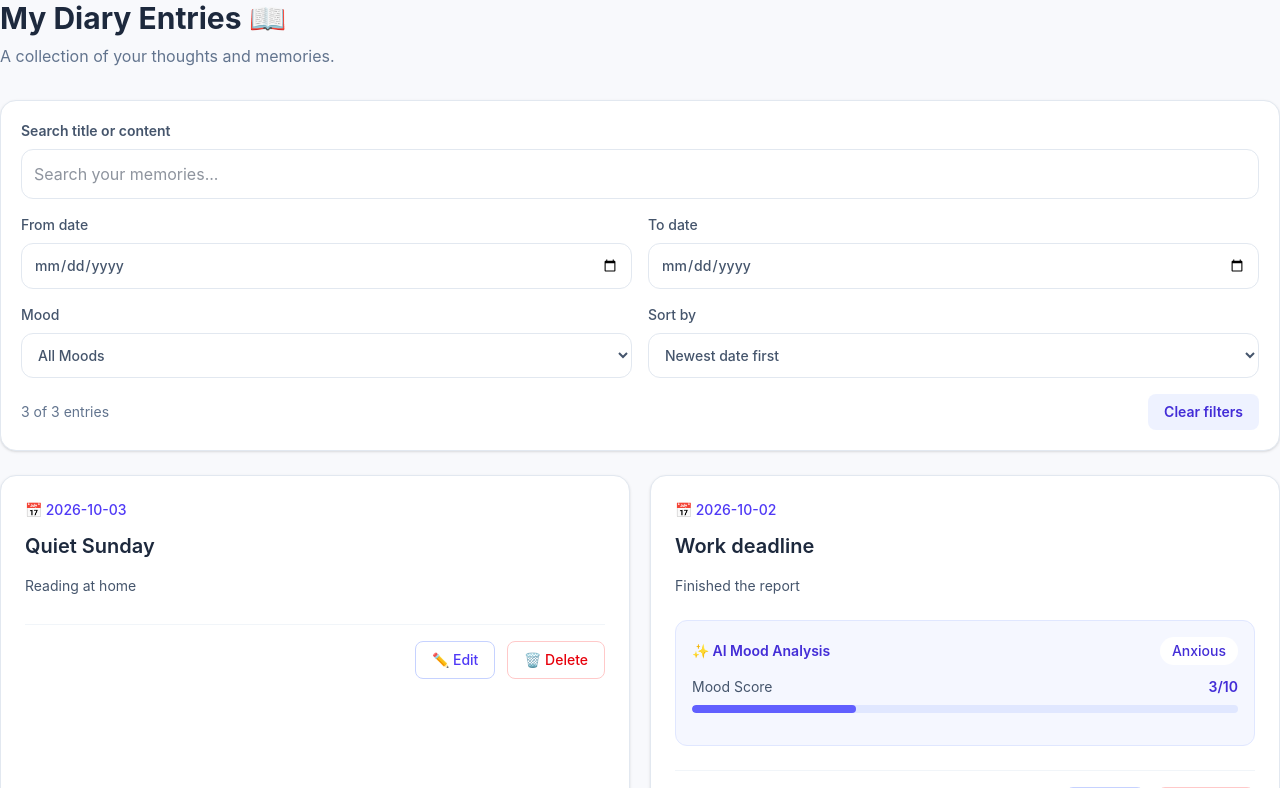
Test case: Diary search and filters › sorts finite scores before missing scores and filters unanalyzed entries
The width and height of the screenshot is (1280, 788).
Select "Lowest mood score first" in the dropdown labelled "Sort by": (954, 356) [648,333,1259,378]
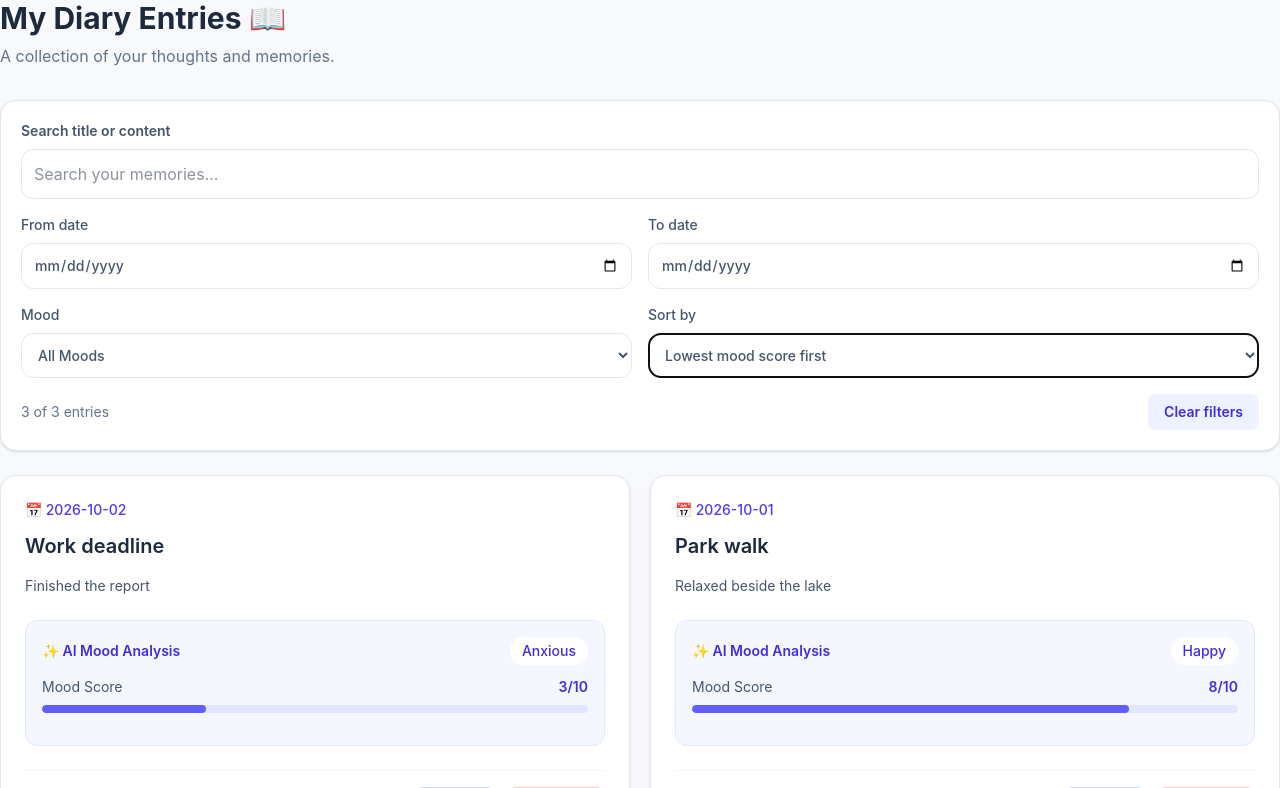
Select "Unanalyzed" in the dropdown labelled "Mood": (326, 356) [21,333,632,378]
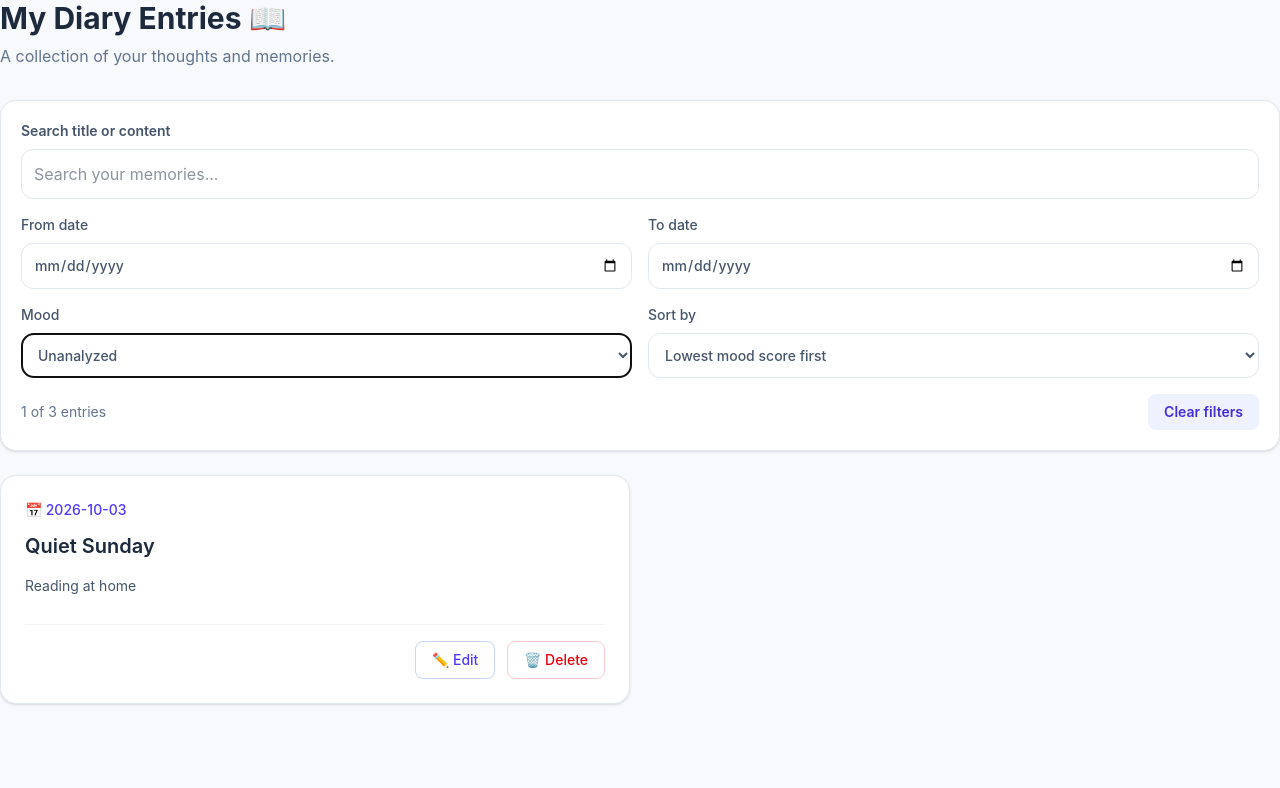
Expected: the heading "Quiet Sunday" is shown, [25,534,155,558]
Result: the text "1 of 3 entries" is shown at [21,402,106,422]
